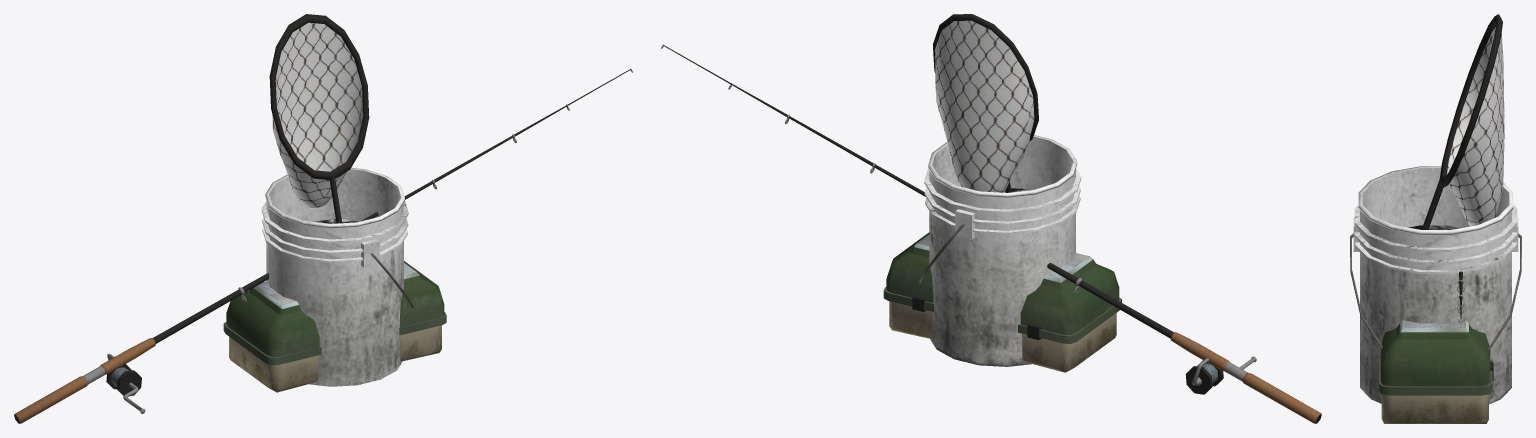
Rendered from fishing_gear.glb.
3 renders of one model, left to right at view 1: azimuth 30°, elevation 25°; view 2: azimuth 150°, elevation 25°; view 3: azimuth 270°, elevation 25°, orthographic. The views are drawn at different scales.
Visible parts, largest first — view 1: plastic_bucket_full, fishing_net, tackle_box, fishing_pole; view 2: plastic_bucket_full, fishing_net, tackle_box, fishing_pole; view 3: plastic_bucket_full, tackle_box, fishing_net, fishing_pole.
Part boxes in pixels (bbox=[...]): plastic_bucket_full: bbox=[261, 167, 413, 386]; fishing_net: bbox=[269, 14, 369, 223]; tackle_box: bbox=[223, 261, 446, 392]; fishing_pole: bbox=[14, 69, 632, 423]; plastic_bucket_full: bbox=[919, 135, 1081, 366]; fishing_net: bbox=[933, 14, 1038, 192]; tackle_box: bbox=[883, 232, 1121, 372]; fishing_pole: bbox=[661, 45, 1321, 423]; plastic_bucket_full: bbox=[1350, 166, 1521, 404]; tackle_box: bbox=[1379, 320, 1493, 423]; fishing_net: bbox=[1421, 14, 1504, 229]; fishing_pole: bbox=[1457, 271, 1464, 323].
Size of the model in its own units: 1.49 by 0.7425 by 0.3182.
1 material, 1 textured.
